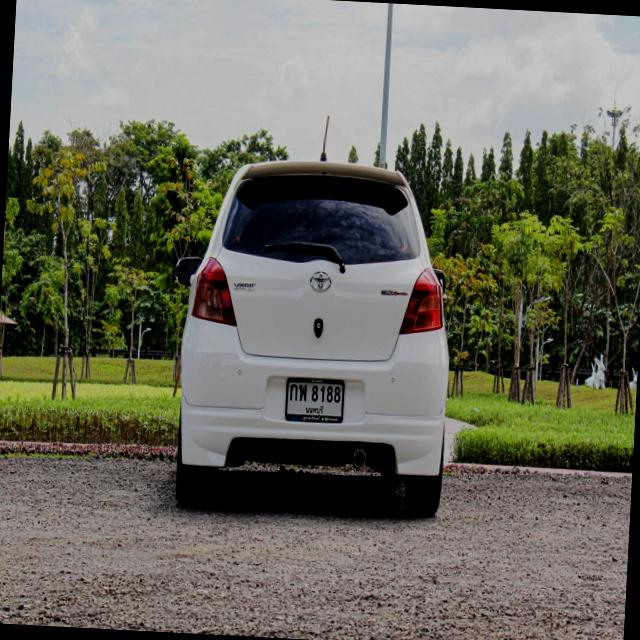license_plate: (282, 374, 348, 434)
